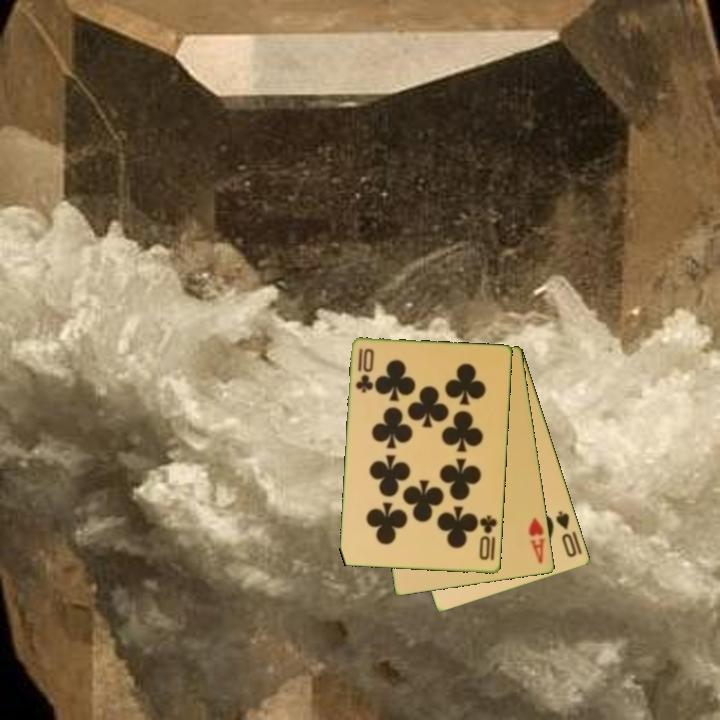10c: (352, 345, 377, 396), (476, 512, 500, 563)
10s: (553, 507, 580, 560)
Ah: (525, 514, 549, 566)
